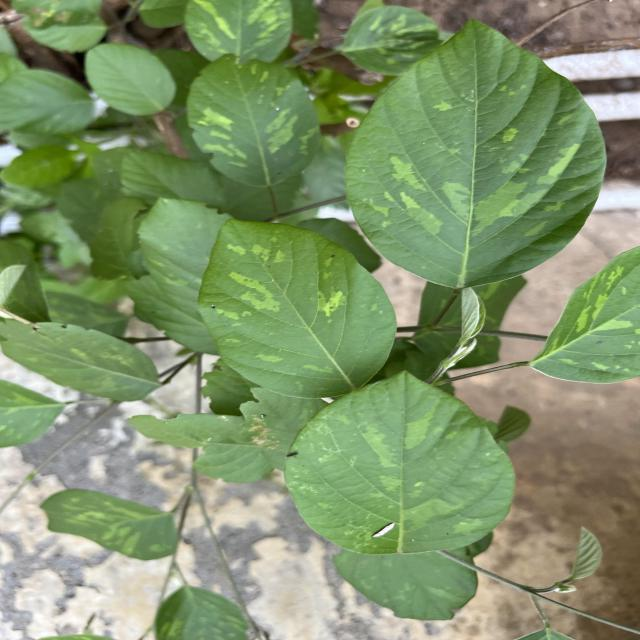Desmodium gangeticum: (342, 13, 610, 290), (281, 364, 519, 558), (194, 215, 398, 402)
